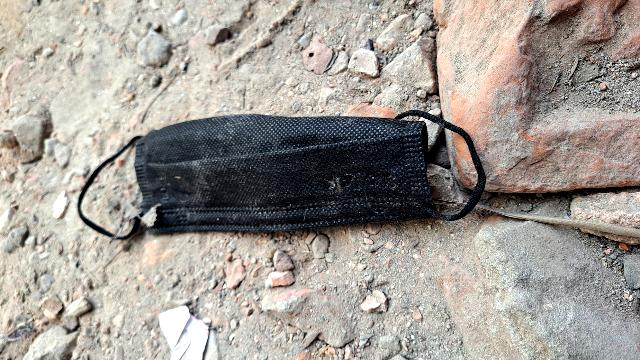mask: (127, 100, 436, 244)
